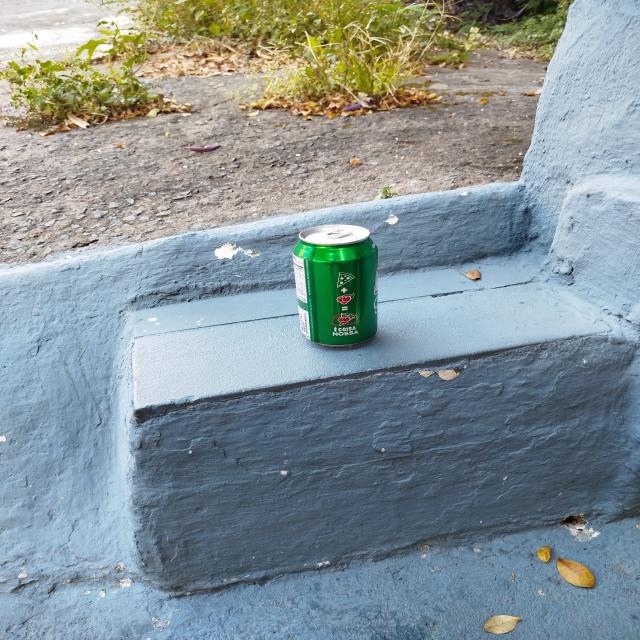Guarana: (290, 226, 378, 347)
